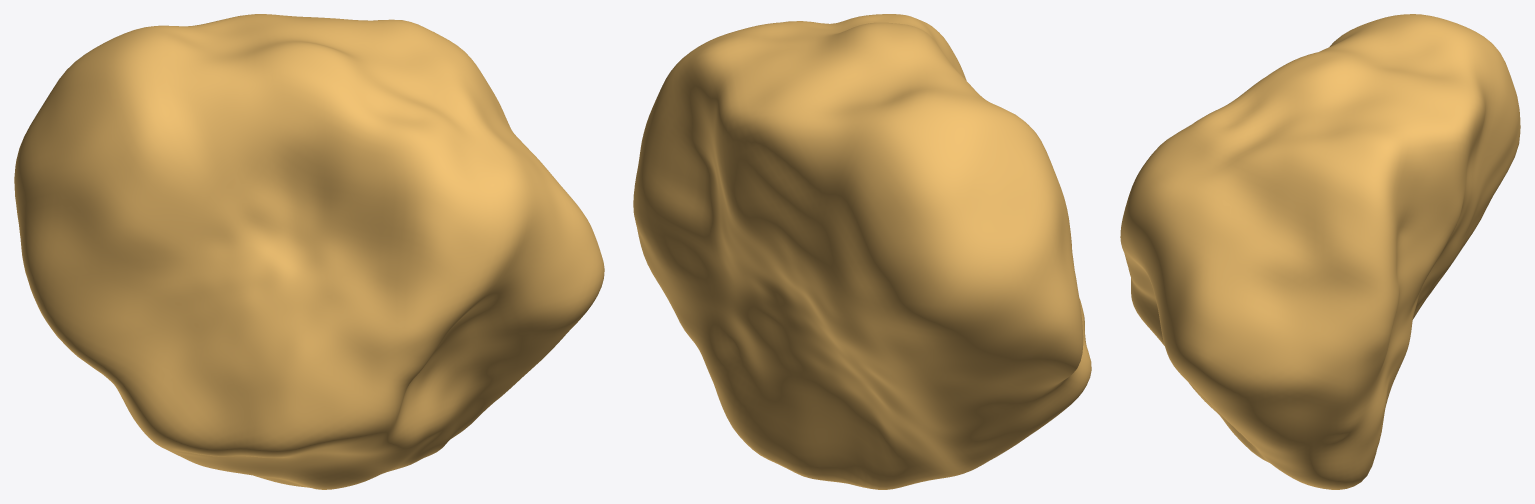
File: nugget-08.glb
The picture shows the model from 3 angles, left to right: view 1: azimuth 30°, elevation 25°; view 2: azimuth 150°, elevation 25°; view 3: azimuth 270°, elevation 25°; orthographic projection. The views are drawn at different scales.
Parts seen in each view (by area): view 1: nugget-08; view 2: nugget-08; view 3: nugget-08.
Part boxes in pixels (left/top/right/bottom): nugget-08: left=14, top=14, right=604, bottom=489; nugget-08: left=633, top=14, right=1091, bottom=489; nugget-08: left=1120, top=14, right=1520, bottom=489.
Bounding box in the file's own units: 3.7 × 3.3 × 3.05.
